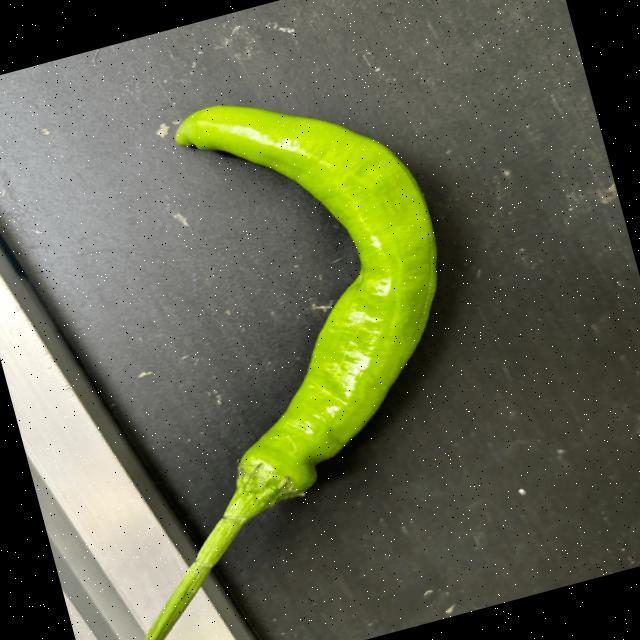chili: (171, 104, 440, 506)
